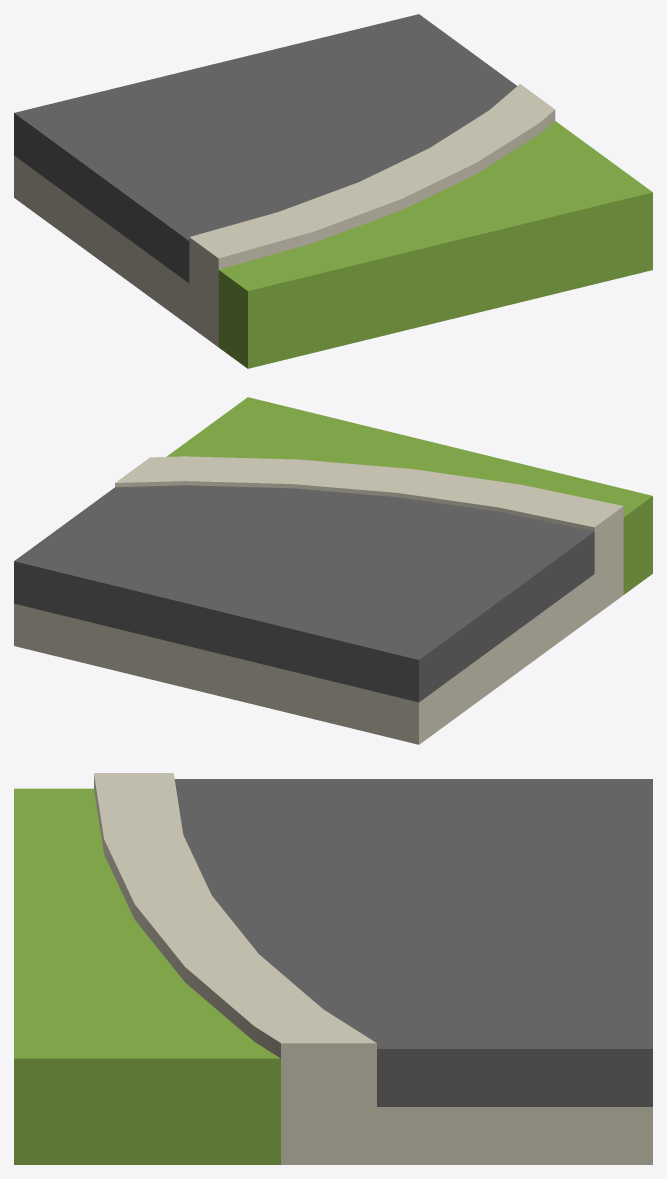
File: road-one-way-curve-sidewalk-grass-8.obj
3 views of the same model, one above another, from view 1: azimuth 30°, elevation 25°; view 2: azimuth 150°, elevation 25°; view 3: azimuth 270°, elevation 25° (orthographic). The views are drawn at different scales.
Visible parts, largest first — view 1: Mesh1_Group1_Model.052; view 2: Mesh1_Group1_Model.052; view 3: Mesh1_Group1_Model.052.
Boxes of the visible parts, x1=… form: Mesh1_Group1_Model.052: x1=14, y1=14, x2=652, y2=368; Mesh1_Group1_Model.052: x1=14, y1=397, x2=652, y2=744; Mesh1_Group1_Model.052: x1=14, y1=773, x2=652, y2=1164.
Bounding box in the file's own units: 3 × 0.63 × 3.
